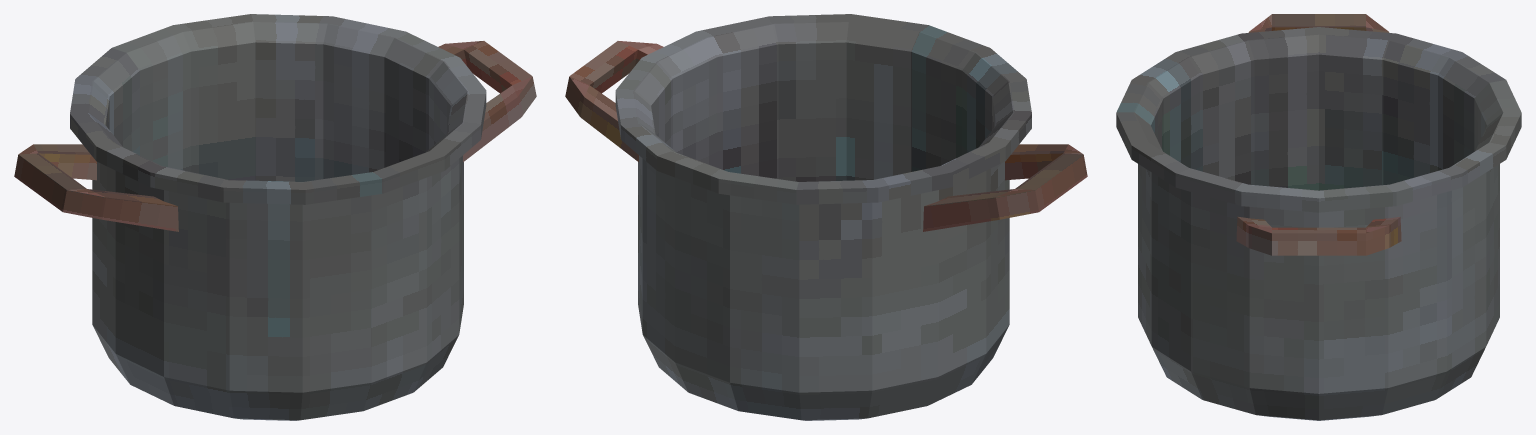
File: POT.glb
3 views of the same model, side by side, from view 1: azimuth 30°, elevation 25°; view 2: azimuth 150°, elevation 25°; view 3: azimuth 270°, elevation 25° (orthographic). The views are drawn at different scales.
Visible parts, largest first — view 1: Cylinder; view 2: Cylinder; view 3: Cylinder.
Part boxes in pixels (bbox=[...]): Cylinder: bbox=[14, 14, 536, 420]; Cylinder: bbox=[565, 14, 1087, 420]; Cylinder: bbox=[1116, 14, 1521, 420].
Bounding box in the file's own units: 0.8303 × 0.4394 × 0.6375.
1 material, 1 textured.
